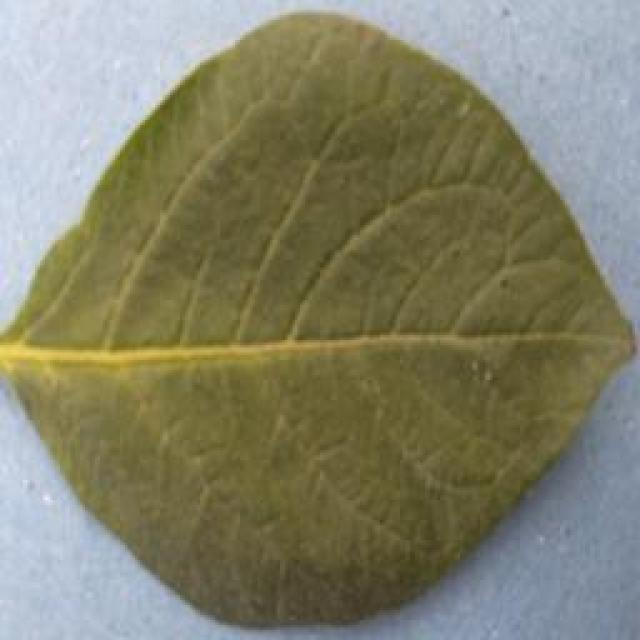Potato_Healthy: (3, 3, 630, 630)
